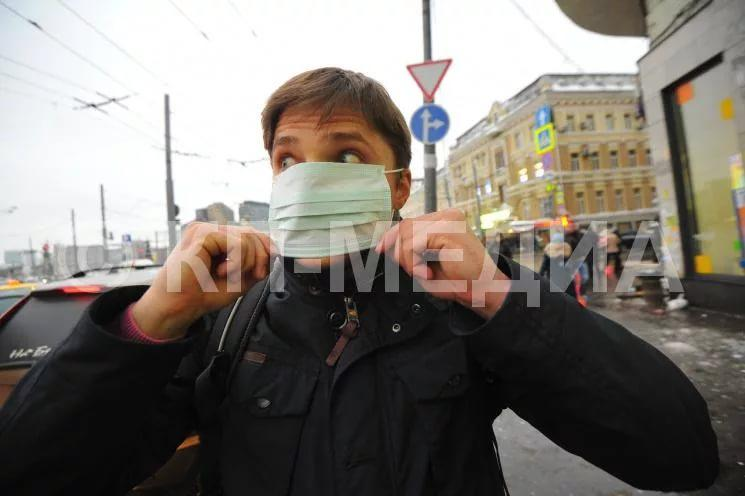mask: (269, 104, 393, 258)
